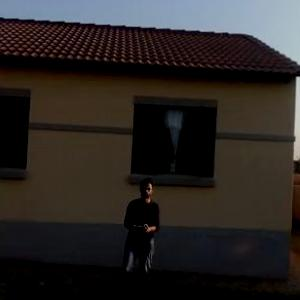follow: (111, 174, 162, 299)
